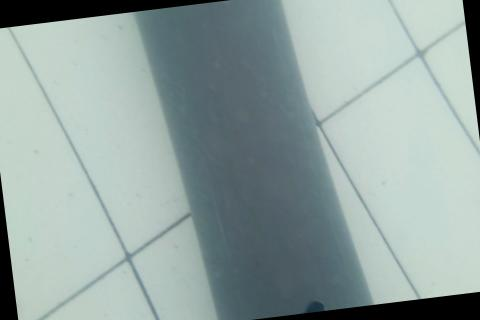kebocoran: (288, 296, 325, 315)
